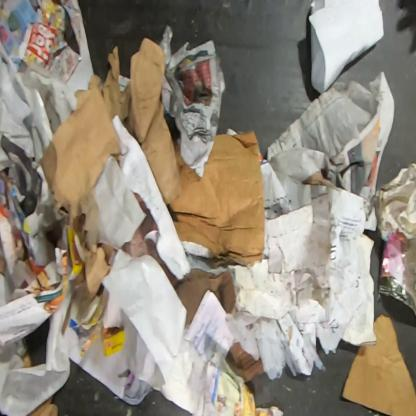cardboard: (169, 129, 264, 266), (173, 268, 237, 326), (225, 342, 264, 381)
